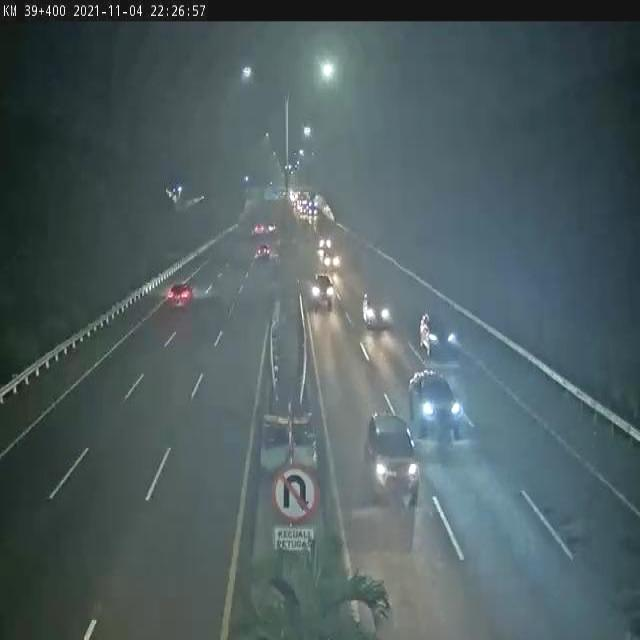Car: (364, 413, 419, 505), (407, 368, 464, 446), (418, 311, 458, 359), (362, 293, 394, 331), (310, 274, 334, 310), (167, 282, 193, 310), (322, 251, 340, 271), (318, 236, 332, 248), (254, 222, 265, 236)
Truck: (307, 200, 318, 217)
